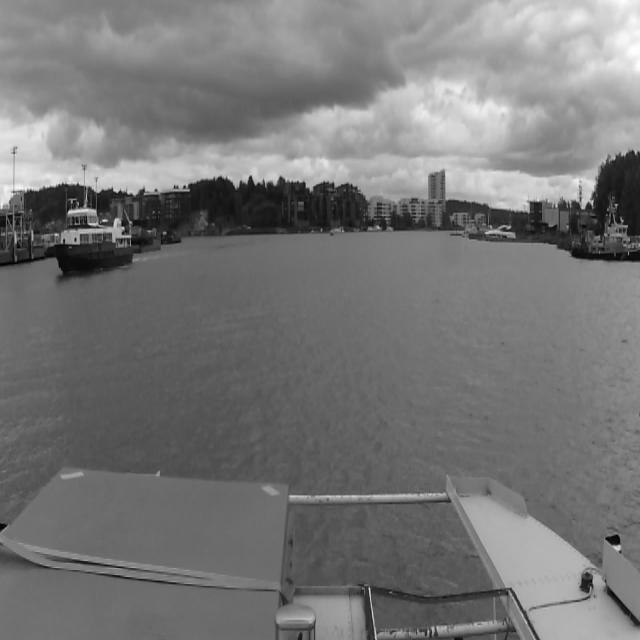ship: (54, 206, 134, 275), (569, 191, 637, 262), (485, 226, 517, 241), (386, 225, 394, 232), (374, 224, 382, 231), (329, 231, 335, 237), (368, 227, 373, 232)
